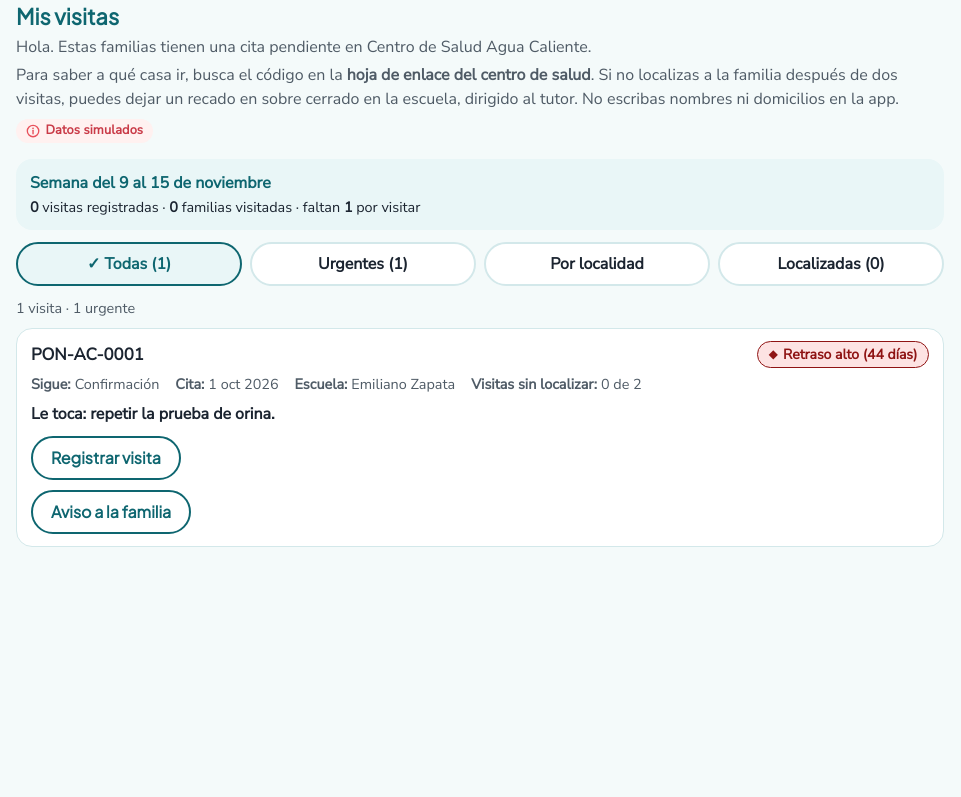
Test: Aviso a la familia (HU06) › envío simulado por WhatsApp/SMS y marcar como entregado
Click the button "Aviso a la familia". click: (111, 512)
box: x1=31 y1=490 x2=191 y2=534
(page scrolled)
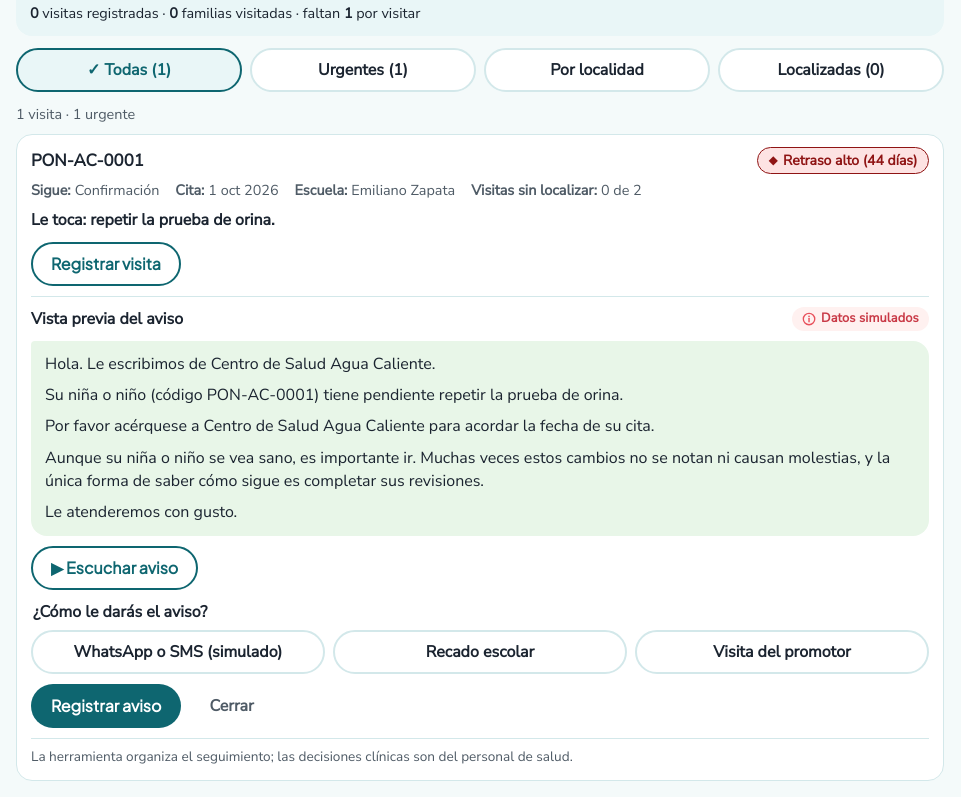
Click the button "WhatsApp o SMS (simulado)". click: (178, 652)
box: x1=31 y1=630 x2=325 y2=674
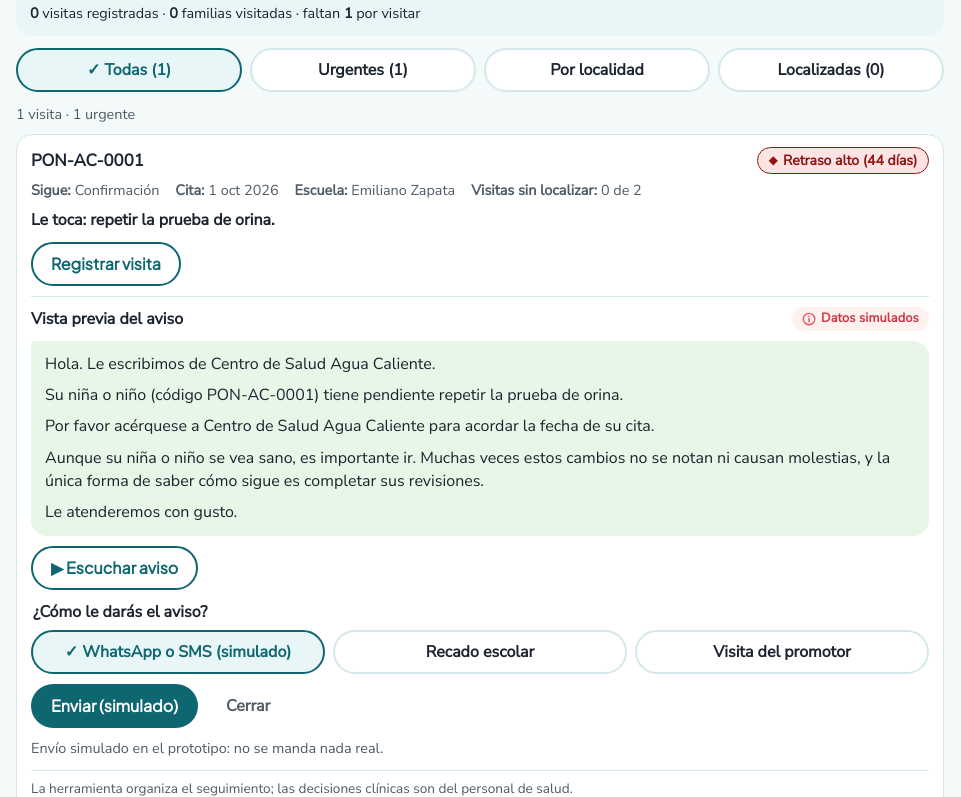
Click the button "Enviar (simulado)". click: (114, 706)
box: x1=31 y1=684 x2=198 y2=728
(page scrolled)
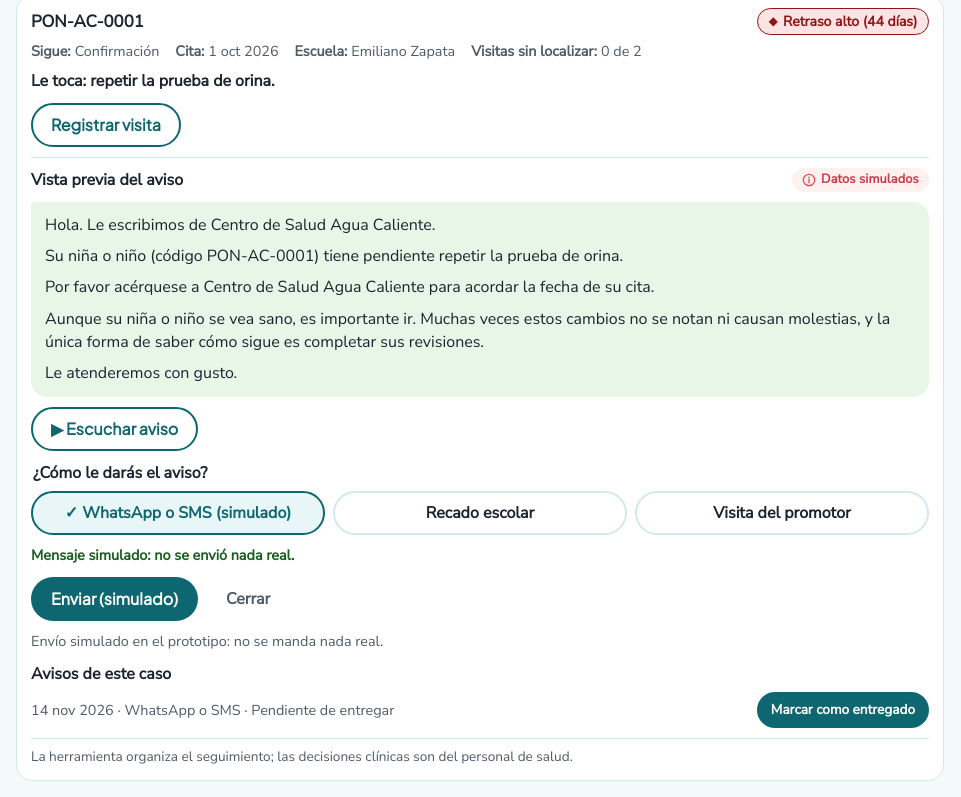
expect the message shows "no se envió nada real": met, box x1=31 y1=545 x2=294 y2=565
expect the text "14 nov 2026 · WhatsApp o SMS · Pendiente de entregar" is shown: met, box x1=31 y1=700 x2=394 y2=721
Click the button "Marcar como entregado". click: (843, 710)
box: x1=757 y1=692 x2=929 y2=728
(page scrolled)
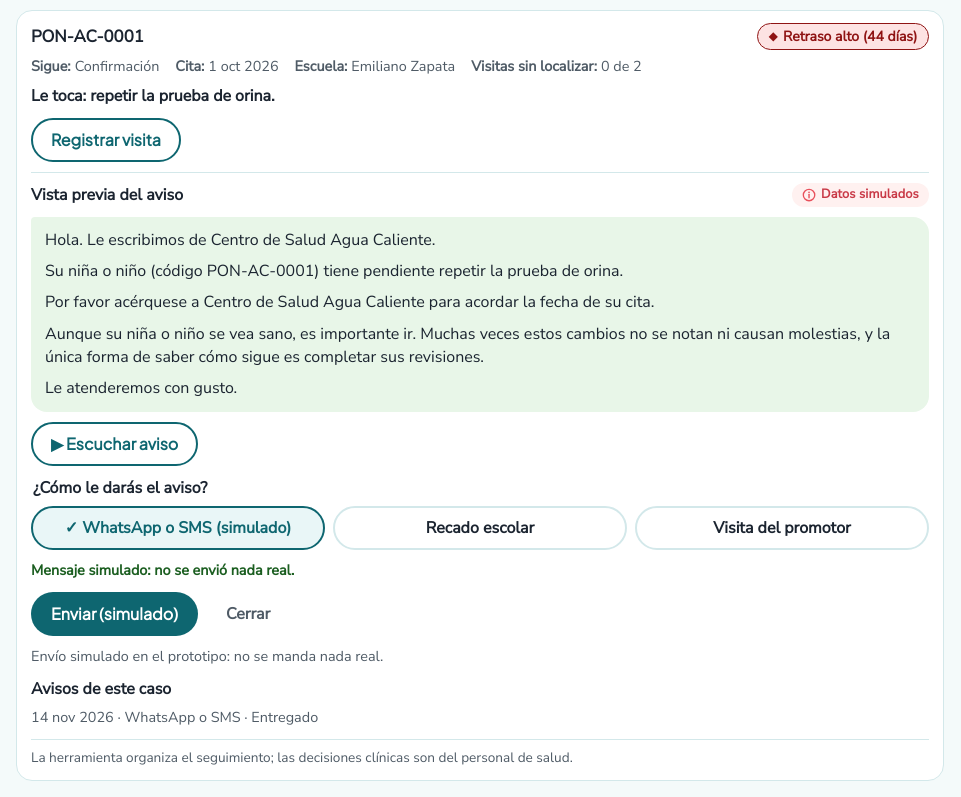
expect the text "14 nov 2026 · WhatsApp o SMS · Entregado" is shown: met, box x1=31 y1=707 x2=318 y2=729
